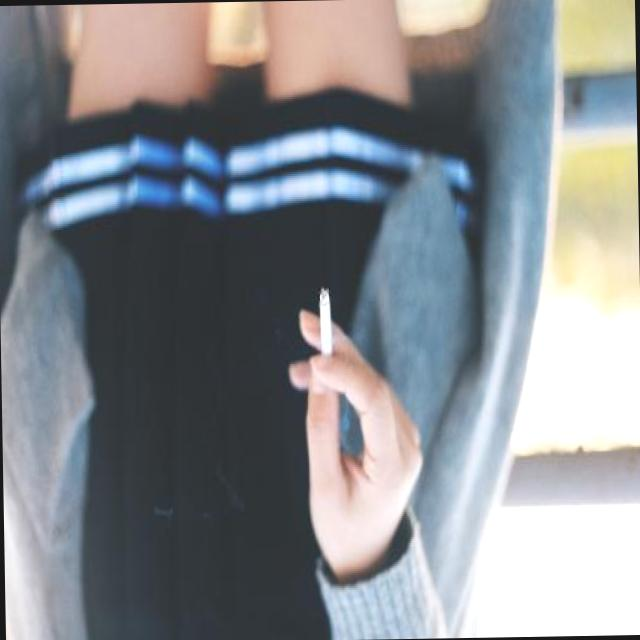cigarette: (302, 272, 342, 383)
